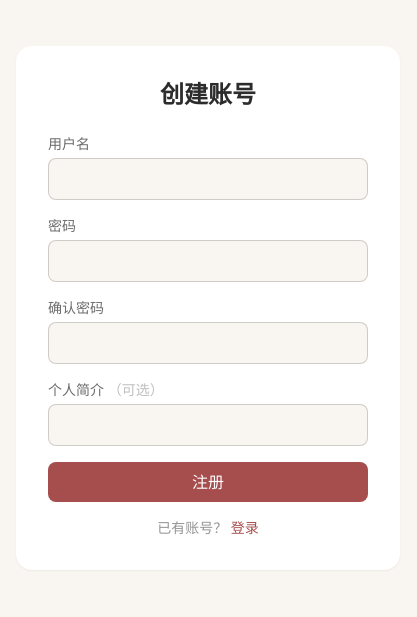
Scenario: RegisterPage › shows validation error when username is empty
This screenshot has width=417, height=617.
What coordinates should you click on to do the following:
click the button "注册"
I would click on:
 (208, 482)
Its box is [48,462,368,502].
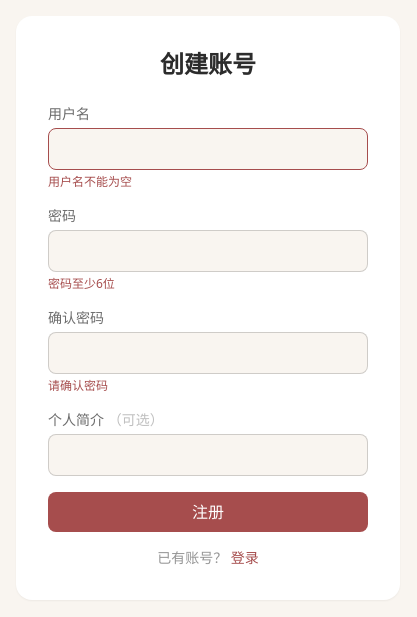
Check: the text "用户名不能为空" is shown, box [48,173,132,190]
